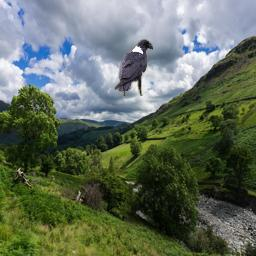Crow: (114, 39, 153, 96)
